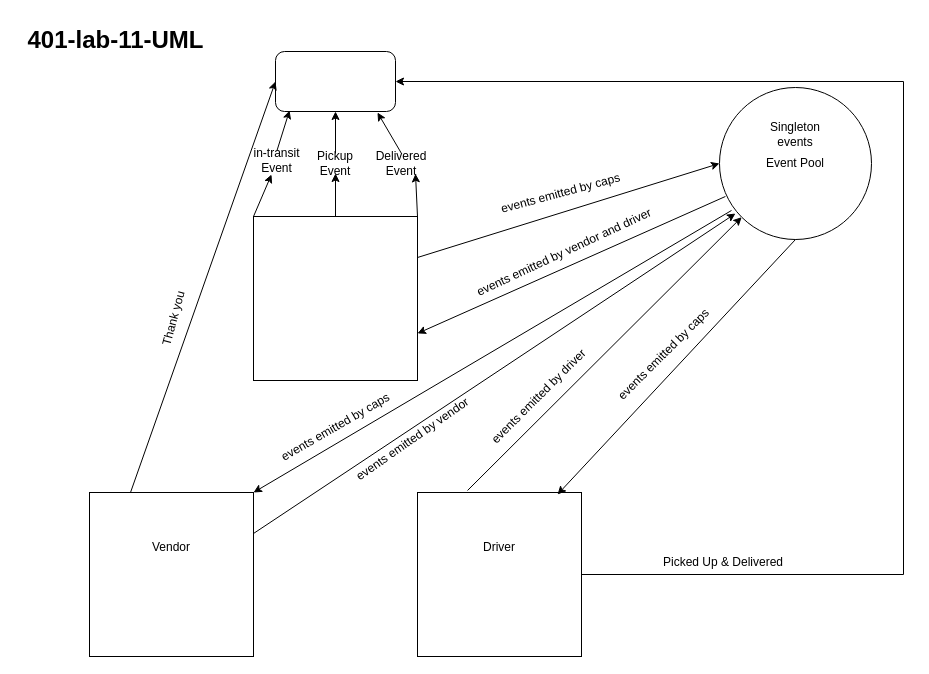
Some shapes in this 929 by 674 pixel diagram are drawn without their labels. Each missing label, with the centre of its shape:
"CAPS" belongs at (x=335, y=298).
"Console" belongs at (x=335, y=81).
